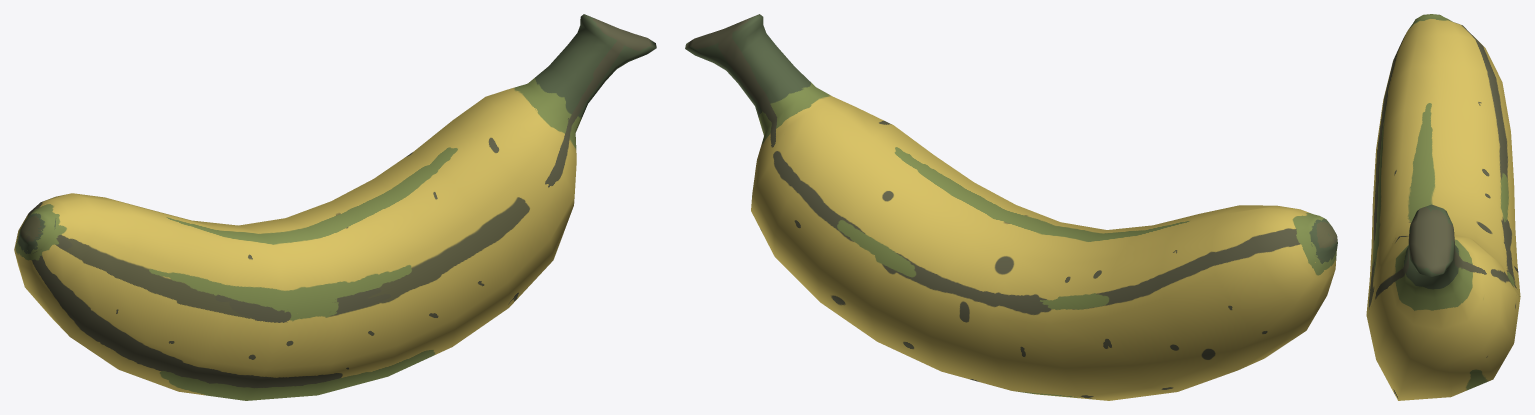
File: banana.fbx
3 views of the same model, side by side, from view 1: azimuth 30°, elevation 25°; view 2: azimuth 150°, elevation 25°; view 3: azimuth 270°, elevation 25° (orthographic). The views are drawn at different scales.
Visible parts, largest first — view 1: Banana; view 2: Banana; view 3: Banana.
Part boxes in pixels (bbox=[...]): Banana: bbox=[14, 14, 656, 400]; Banana: bbox=[685, 14, 1337, 400]; Banana: bbox=[1366, 14, 1520, 400].
Size of the model in its own units: 0.4692 by 0.1051 by 0.2111.
Materials: 1 (1 with a texture image).
